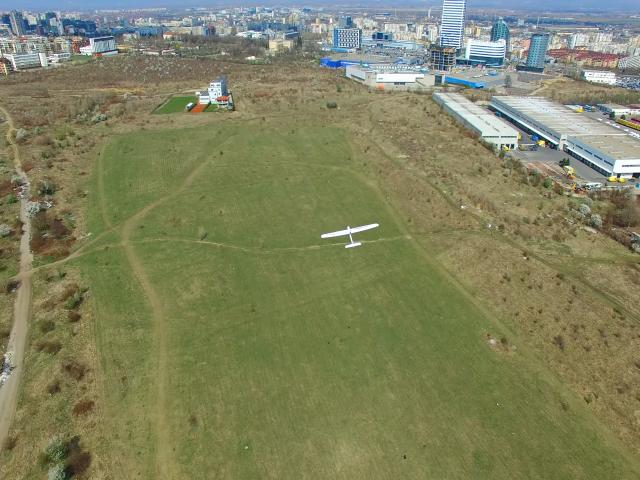plane: (320, 220, 378, 248)
